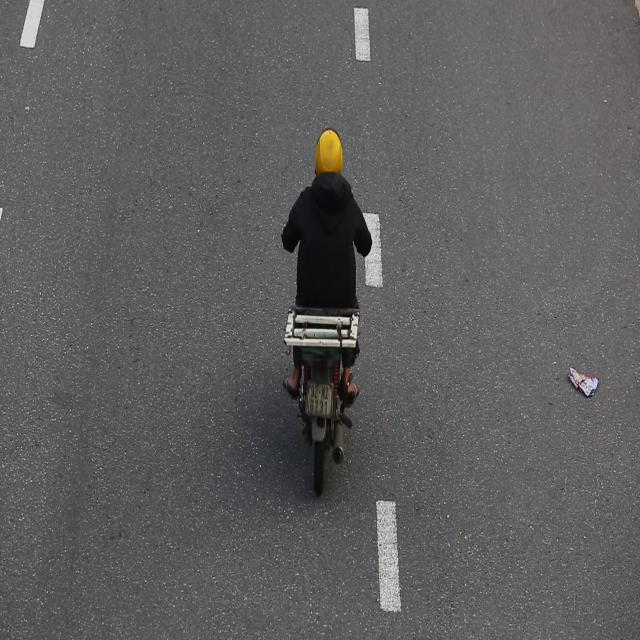motorbike: (281, 115, 374, 498)
